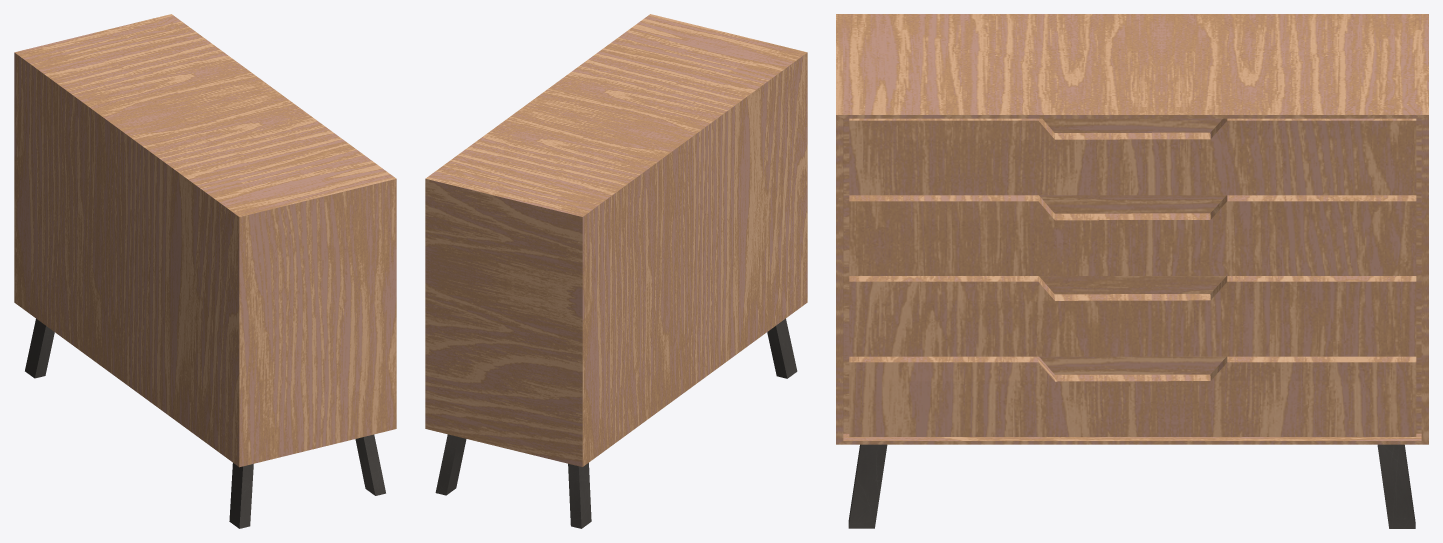
Rendered from cabinet.glb.
The picture shows the model from 3 angles, left to right: view 1: azimuth 30°, elevation 25°; view 2: azimuth 150°, elevation 25°; view 3: azimuth 270°, elevation 25°; orthographic projection. The views are drawn at different scales.
Parts seen in each view (by area): view 1: Dresser, Leg; view 2: Dresser, Leg; view 3: Dresser, Leg.
Part boxes in pixels (x1,y1,x2,y2): Dresser: [14, 14, 396, 467]; Leg: [25, 318, 385, 528]; Dresser: [425, 14, 807, 466]; Leg: [435, 318, 797, 528]; Dresser: [836, 14, 1428, 444]; Leg: [848, 444, 1415, 528].
Size of the model in its own units: 1.08 by 2.09 by 2.69.
Materials: 2 (2 with a texture image).
